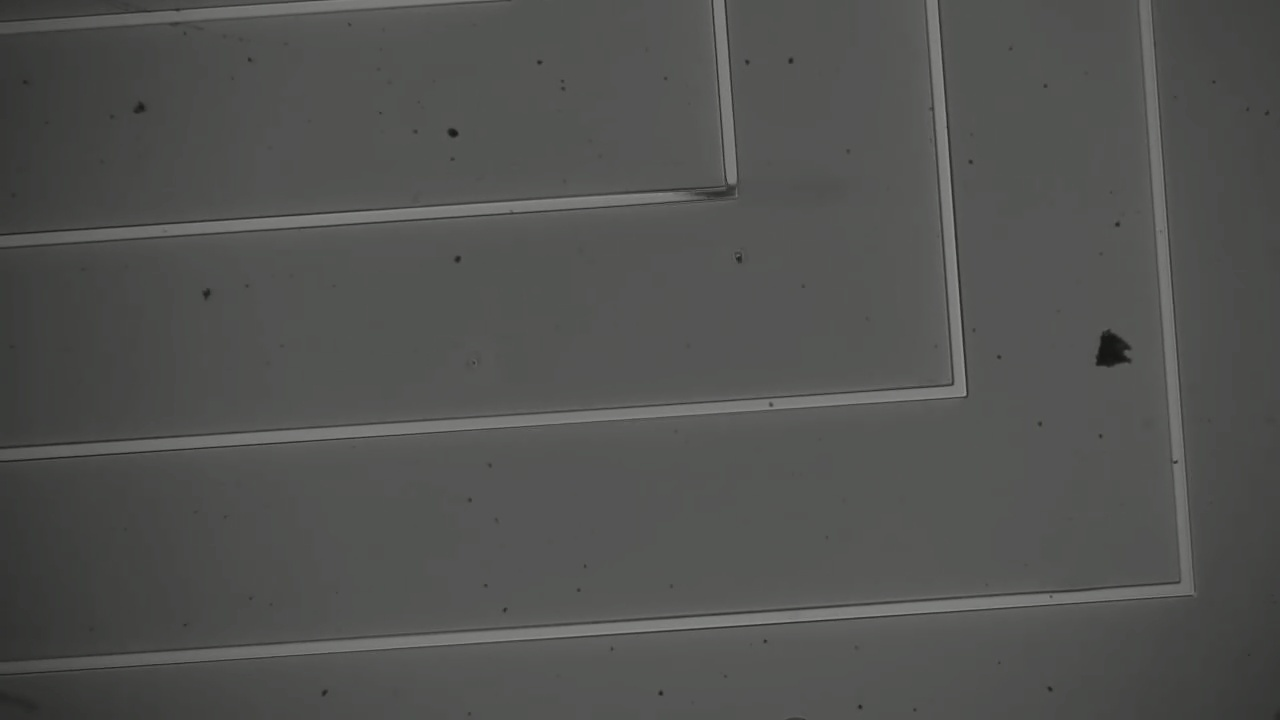gray_line: (664, 176, 750, 219)
